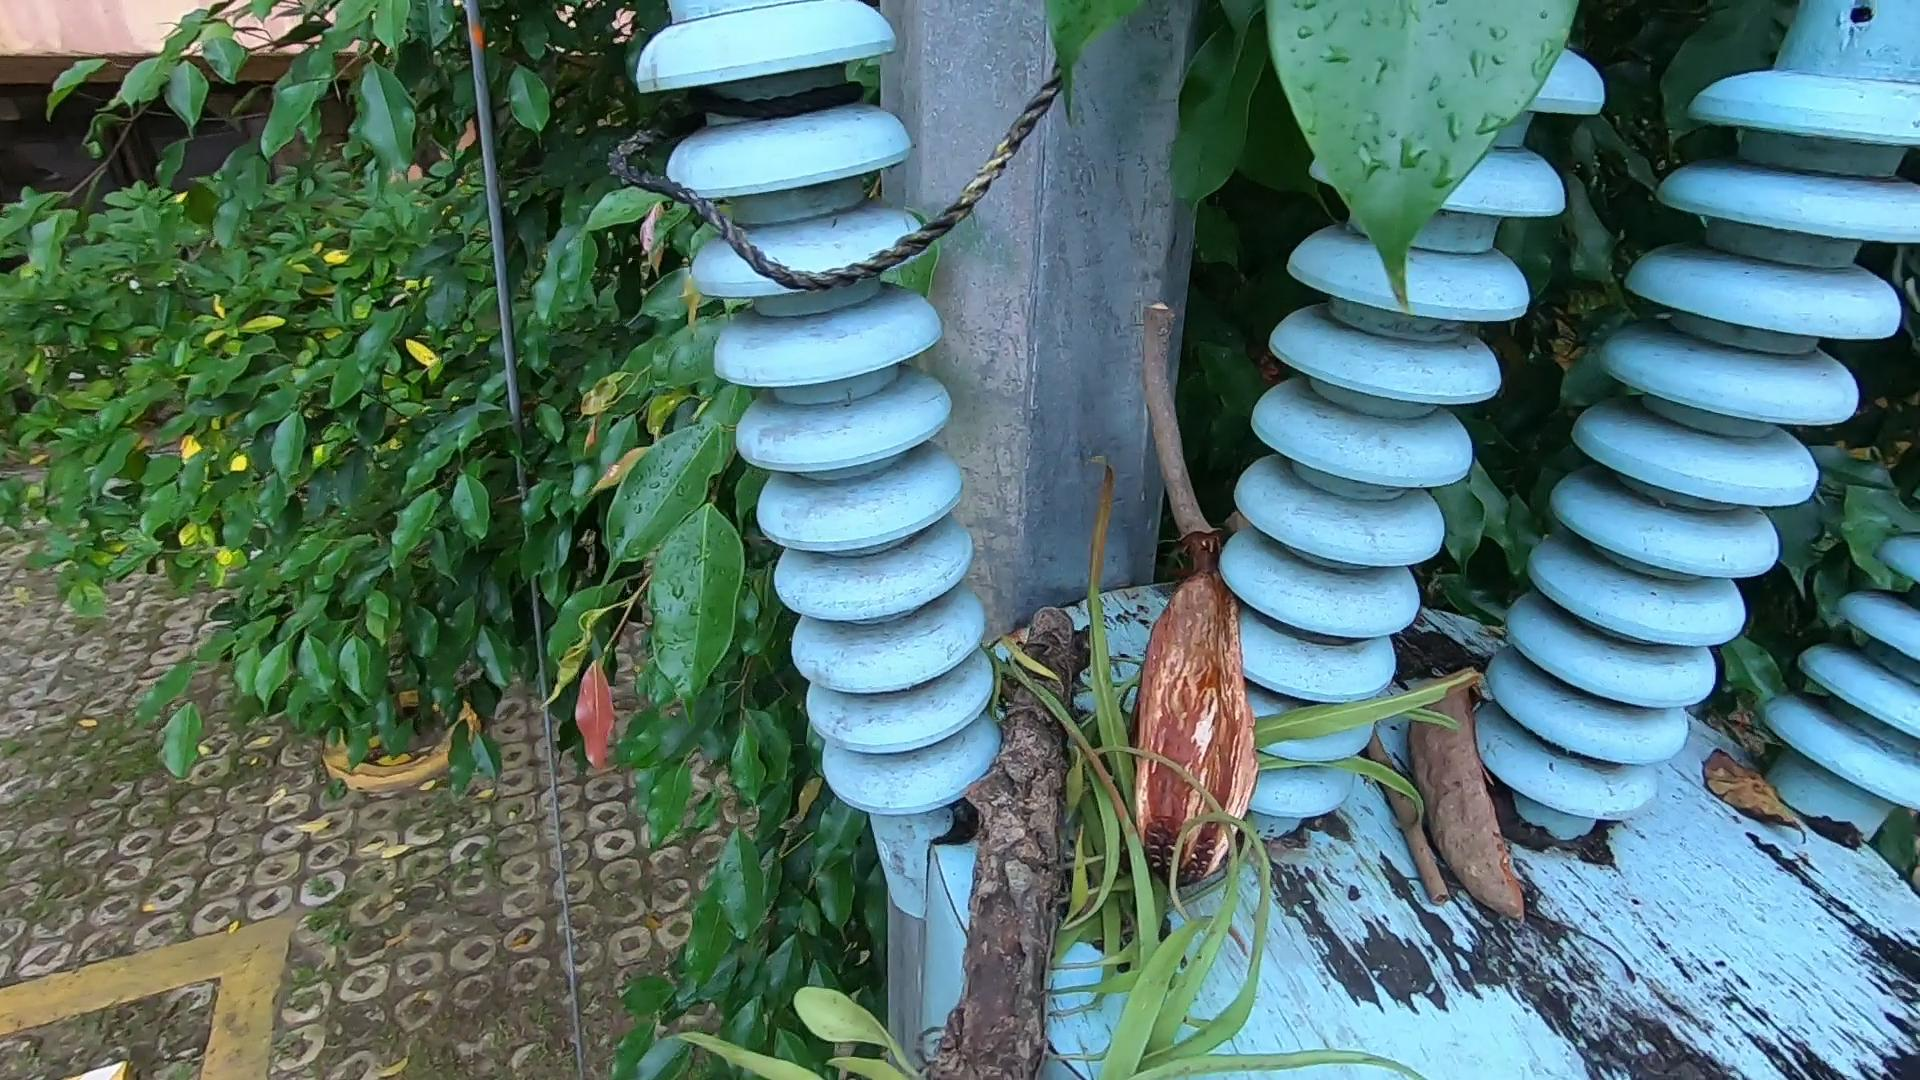branch with leaves: (939, 446, 1464, 1080)
leaf: (1698, 740, 1815, 837)
mahogany fruit: (1399, 653, 1714, 1025), (1120, 553, 1366, 916)
tree branch: (1126, 290, 1229, 546), (1352, 724, 1468, 916)
